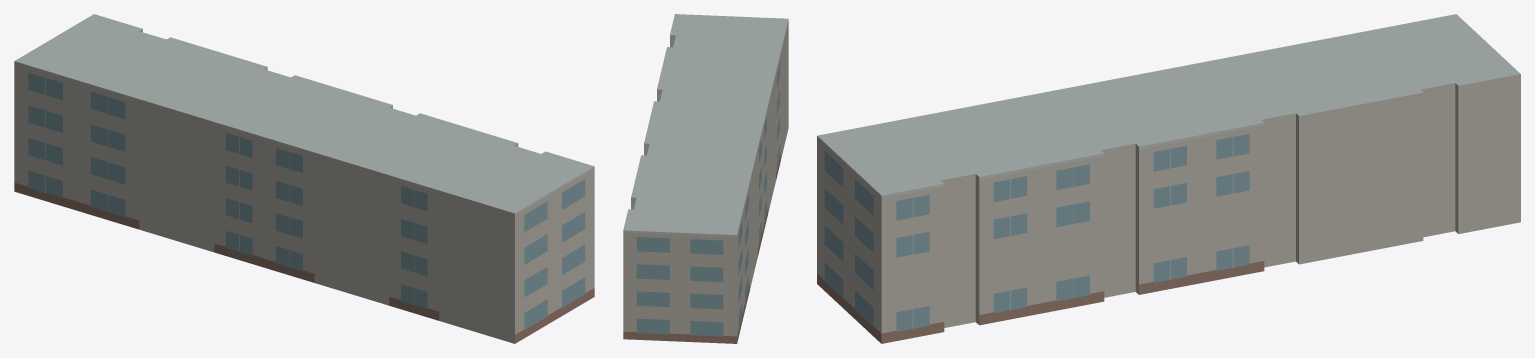
The model's file is survey-upis-32730723.glb.
3 views of the same model, side by side, from view 1: azimuth 30°, elevation 25°; view 2: azimuth 150°, elevation 25°; view 3: azimuth 270°, elevation 25° (orthographic). The views are drawn at different scales.
Visible parts, largest first — view 1: survey-upis-32730723.tmp; view 2: survey-upis-32730723.tmp; view 3: survey-upis-32730723.tmp.
Part boxes in pixels (left/top/right/bottom): survey-upis-32730723.tmp: left=14, top=14, right=594, bottom=343; survey-upis-32730723.tmp: left=623, top=14, right=788, bottom=343; survey-upis-32730723.tmp: left=817, top=14, right=1520, bottom=343.
Bounding box in the file's own units: 32.04 × 12.2 × 52.47.
